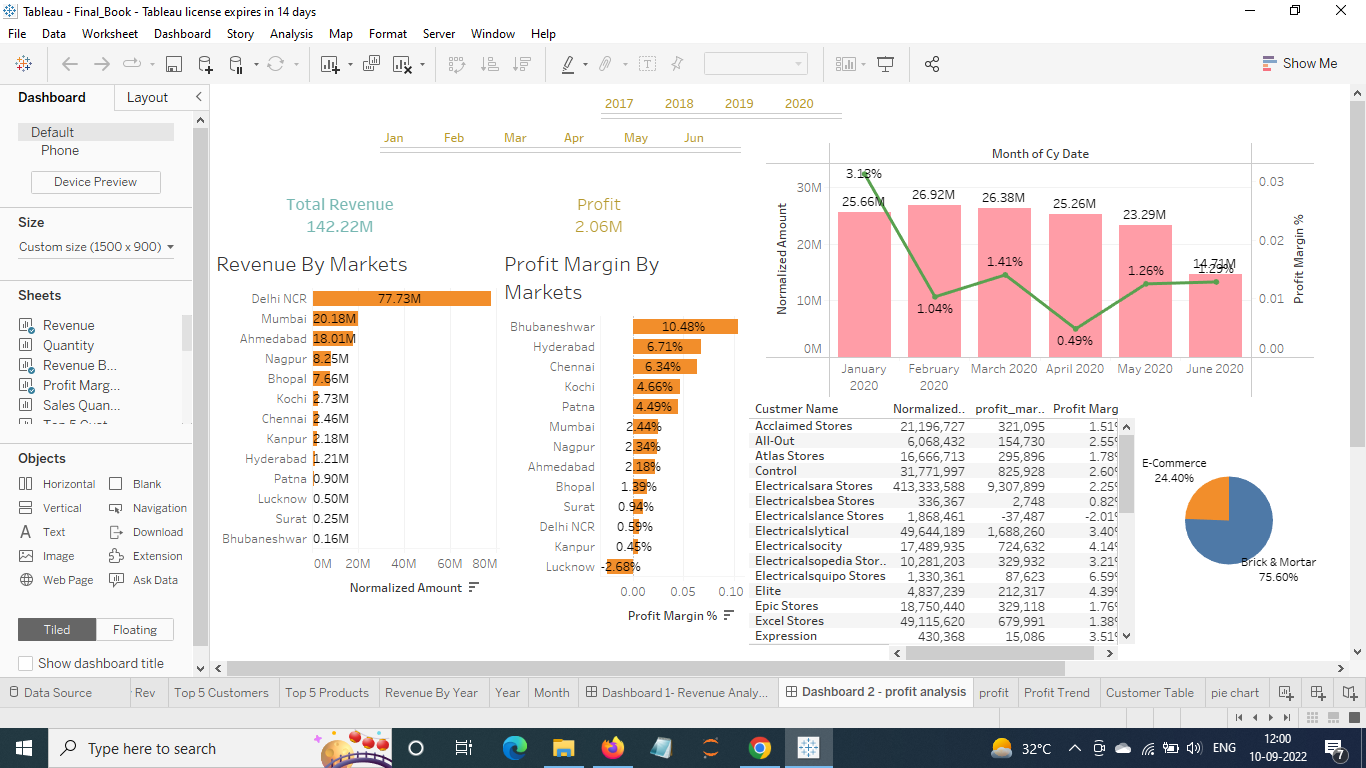

The page's visual inventory and layout, read from the dashboard file:
{"tool":"tableau","page":{"name":"Dashboard 2 - profit analysis","canvas":[1500,900],"ordinal":1},"visuals":[{"type":"worksheet","title":"Year","mark":"Automatic","cols":["cy_date"],"box":[391,9,248,53]},{"type":"worksheet","title":"Month","mark":"Automatic","cols":["cy_date"],"box":[170,43,798,72]},{"type":"worksheet","title":"Profit Trend","mark":"Bar","rows":["Calculation_508062340302868480","Calculation_508062340370305026"],"cols":["cy_date"],"box":[556,59,549,255]},{"type":"worksheet","title":"Revenue","mark":"Automatic","box":[70,98,208,85]},{"type":"worksheet","title":"profit","mark":"Automatic","box":[359,108,125,73]},{"type":"worksheet","title":"Revenue By Markets","mark":"Automatic","rows":["markets_name"],"cols":["Calculation_508062340302868480"],"box":[2,161,288,447]},{"type":"worksheet","title":"Profit Margin By Markets","mark":"Automatic","rows":["markets_name"],"cols":["Calculation_508062340370305026"],"box":[290,161,245,481]},{"type":"worksheet","title":"Customer Table","mark":"Automatic","rows":["custmer_name"],"box":[539,314,386,264]},{"type":"worksheet","title":"pie chart","mark":"Pie","box":[931,347,176,179]}]}

Visuals, with their boxes on the page's 1500x900 design canvas (x1, y1, x2, y2). These are canvas units, not pixel positions in the 1366x768 screenshot, which may show the page scaled, cropped or inside an application window:
"Year" worksheet: <region>391, 9, 639, 62</region>
"Month" worksheet: <region>170, 43, 968, 115</region>
"Profit Trend" worksheet (Bar marks): <region>556, 59, 1105, 314</region>
"Revenue" worksheet: <region>70, 98, 278, 183</region>
"profit" worksheet: <region>359, 108, 484, 181</region>
"Revenue By Markets" worksheet: <region>2, 161, 290, 608</region>
"Profit Margin By Markets" worksheet: <region>290, 161, 535, 642</region>
"Customer Table" worksheet: <region>539, 314, 925, 578</region>
"pie chart" worksheet (Pie marks): <region>931, 347, 1107, 526</region>
